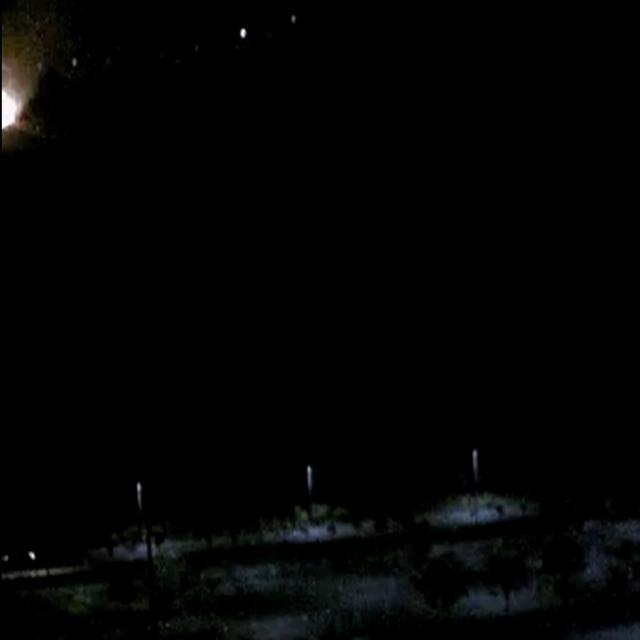Fire: (2, 62, 34, 134)
Smoke: (4, 18, 58, 99)
